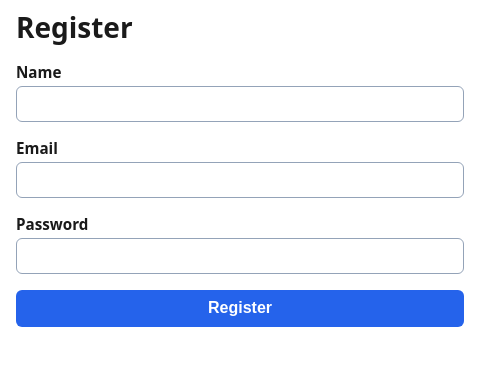
Test: RegisterPage › blocks submission for an invalid email address
The image size is (481, 367).
Type "John Doe" into the field labelled "Name" at (240, 104), box [16,86,464,122]
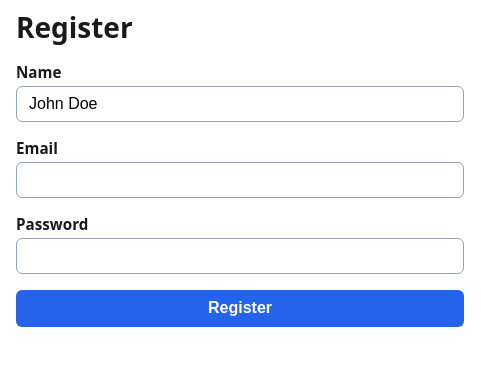
Type "not-an-email" into the field labelled "Email" at (240, 180), box [16,162,464,198]
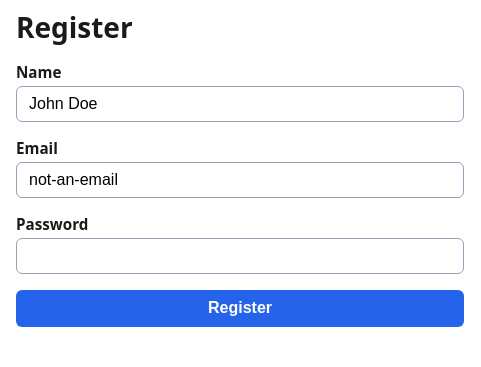
Type "securePass1" into the password field labelled "Password" at (240, 256), box [16,238,464,274]
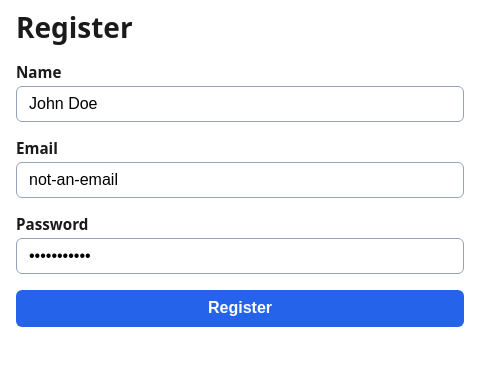
Click the button "Register" at (240, 308), box [16,290,464,327]
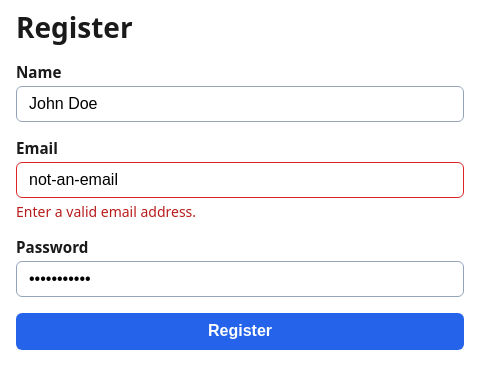
Expected: the text "Enter a valid email address." is shown, [16,202,196,221]
